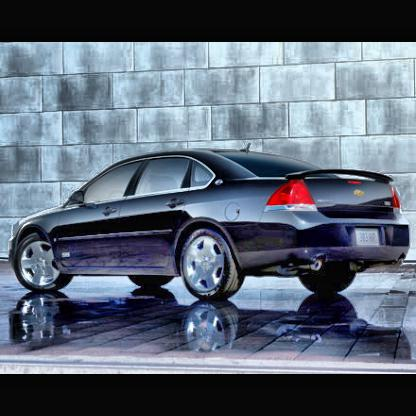Chevrolet Impala Sedan 2007: (9, 148, 415, 304)
